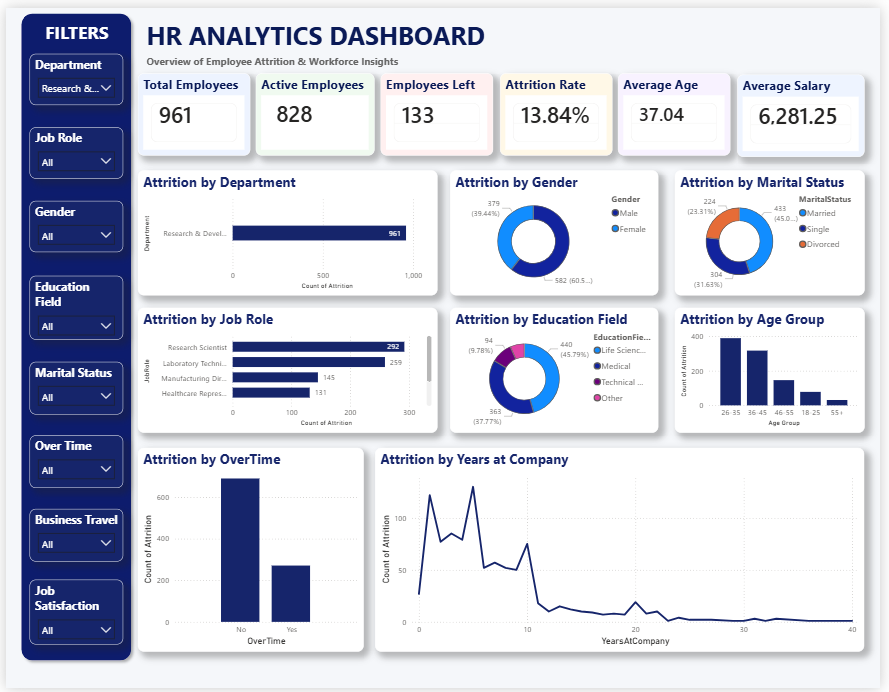

The page's visual inventory and layout, read from the dashboard file:
{"tool":"powerbi","page":{"name":"Page 1","canvas":[1400,1090],"ordinal":0},"visuals":[{"type":"shape","box":[16,0,194,1054],"z":0},{"type":"textbox","title":"HR ANALYTICS DASHBOARD","box":[220,15,600,85],"z":1000},{"type":"cardVisual","title":"Total Employees","fields":{"Data":["Employee.Total Employees"]},"box":[210,105,180,132],"z":2000},{"type":"cardVisual","title":"Active Employees","fields":{"Data":["Employee.Active Employees"]},"box":[400,105,190,132],"z":3000},{"type":"cardVisual","title":"Employees Left","fields":{"Data":["Employee.Employees Left"]},"box":[600,105,180,132],"z":4000},{"type":"cardVisual","title":"Attrition Rate","fields":{"Data":["Employee.Attrition Rate"]},"box":[790,105,180,132],"z":5000},{"type":"cardVisual","title":"Average Age","fields":{"Data":["Employee.Average Age"]},"box":[980,105,180,132],"z":6000},{"type":"cardVisual","title":"Average Salary","fields":{"Data":["Employee.Average Salary"]},"box":[1170,106,204,132],"z":7000},{"type":"clusteredBarChart","title":"Attrition by Department","fields":{"Category":["Employee.Department"],"Y":["CountNonNull(Employee.Attrition)"]},"box":[210,260,480,200],"z":7001},{"type":"donutChart","title":"Attrition by Gender","fields":{"Y":["CountNonNull(Employee.Attrition)"],"Category":["Employee.Gender"]},"box":[710,260,334,200],"z":7002},{"type":"donutChart","title":"Attrition by Marital Status","fields":{"Y":["CountNonNull(Employee.Attrition)"],"Category":["Employee.MaritalStatus"]},"box":[1070,260,304,200],"z":7003},{"type":"clusteredBarChart","title":"Attrition by Job Role","fields":{"Y":["CountNonNull(Employee.Attrition)"],"Category":["Employee.JobRole"]},"box":[210,480,480,200],"z":7004},{"type":"donutChart","title":"Attrition by Education Field","fields":{"Y":["CountNonNull(Employee.Attrition)"],"Category":["Employee.EducationField"]},"box":[712,480,334,200],"z":7005},{"type":"clusteredColumnChart","title":"Attrition by Age Group","fields":{"Category":["Employee.Age Group"],"Y":["CountNonNull(Employee.Attrition)"]},"box":[1070,480,304,200],"z":7006},{"type":"clusteredColumnChart","title":"Attrition by OverTime","fields":{"Y":["CountNonNull(Employee.Attrition)"],"Category":["Employee.OverTime"]},"box":[210,703.3,361.7,326.7],"z":7007},{"type":"lineChart","title":"Attrition by Years at Company","fields":{"Category":["Employee.YearsAtCompany"],"Y":["CountNonNull(Employee.Attrition)"]},"box":[590,703.3,783.3,326.7],"z":7008},{"type":"textbox","title":"FILTERS","box":[48,20,130,38],"z":7009},{"type":"slicer","title":"Department","fields":{"Values":["Employee.Department"]},"box":[38,74,150,82],"z":7010},{"type":"slicer","title":"Job Role","fields":{"Values":["Employee.JobRole"]},"box":[38,190,150,82],"z":7011},{"type":"slicer","title":"Gender","fields":{"Values":["Employee.Gender"]},"box":[38,308,150,82],"z":7012},{"type":"slicer","title":"Education Field","fields":{"Values":["Employee.EducationField"]},"box":[38,428,150,102],"z":7013},{"type":"slicer","title":"Marital Status","fields":{"Values":["Employee.MaritalStatus"]},"box":[38,566,150,84],"z":7014},{"type":"slicer","title":"Over Time","fields":{"Values":["Employee.OverTime"]},"box":[38,684,150,84],"z":7015},{"type":"slicer","title":"Business Travel","fields":{"Values":["Employee.BusinessTravel"]},"box":[38,802,150,84],"z":7016},{"type":"slicer","title":"Job Satisfaction","fields":{"Values":["Employee.JobSatisfaction"]},"box":[38,916,150,104],"z":7017}]}

Visuals, with their boxes in screenshot pixels (x1, y1, x2, y2), scaled from the page's 1400x1090 canvas onto the 889x692 screenshot:
shape: [10,0,133,669]
"HR ANALYTICS DASHBOARD" textbox: [140,10,521,63]
"Total Employees" cardVisual: [133,67,248,150]
"Active Employees" cardVisual: [254,67,375,150]
"Employees Left" cardVisual: [381,67,495,150]
"Attrition Rate" cardVisual: [502,67,616,150]
"Average Age" cardVisual: [622,67,737,150]
"Average Salary" cardVisual: [743,67,872,151]
"Attrition by Department" clusteredBarChart: [133,165,438,292]
"Attrition by Gender" donutChart: [451,165,663,292]
"Attrition by Marital Status" donutChart: [679,165,872,292]
"Attrition by Job Role" clusteredBarChart: [133,305,438,432]
"Attrition by Education Field" donutChart: [452,305,664,432]
"Attrition by Age Group" clusteredColumnChart: [679,305,872,432]
"Attrition by OverTime" clusteredColumnChart: [133,446,363,654]
"Attrition by Years at Company" lineChart: [375,446,872,654]
"FILTERS" textbox: [30,13,113,37]
"Department" slicer: [24,47,119,99]
"Job Role" slicer: [24,121,119,173]
"Gender" slicer: [24,196,119,248]
"Education Field" slicer: [24,272,119,336]
"Marital Status" slicer: [24,359,119,413]
"Over Time" slicer: [24,434,119,488]
"Business Travel" slicer: [24,509,119,562]
"Job Satisfaction" slicer: [24,582,119,648]
